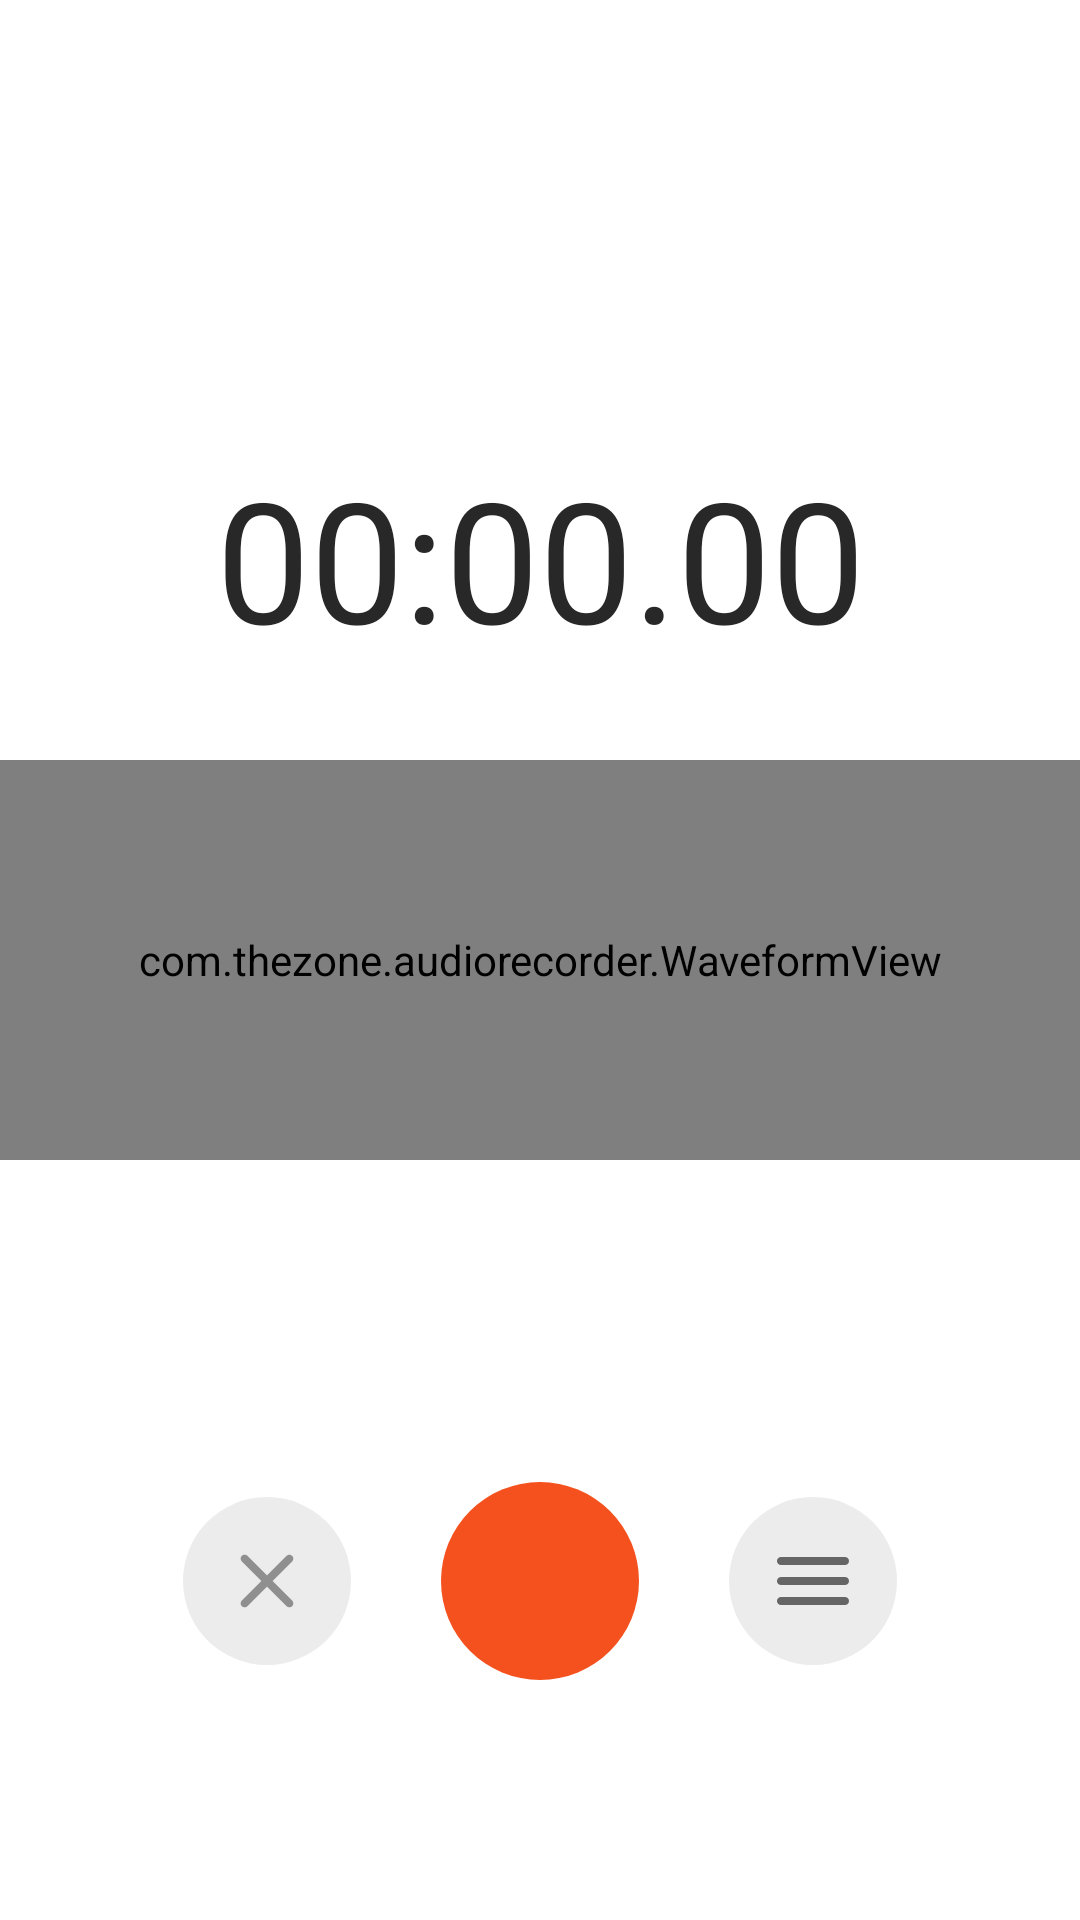

Named icons in this screenshot (1080x1920) and their centers, point (x, y):
delete: point (267, 1581)
list: point (813, 1581)
